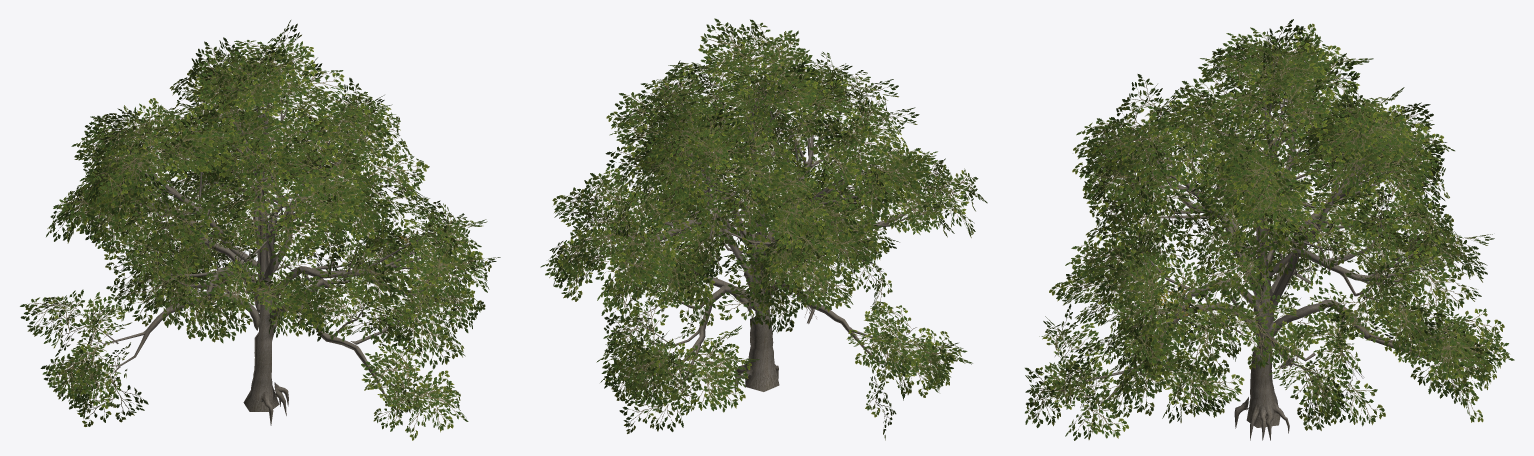
The model's file is oak-10726.gltf.
3 views of the same model, side by side, from view 1: azimuth 30°, elevation 25°; view 2: azimuth 150°, elevation 25°; view 3: azimuth 270°, elevation 25° (orthographic). The views are drawn at different scales.
Visible parts, largest first — view 1: White oak full crown 10726; view 2: White oak full crown 10726; view 3: White oak full crown 10726.
Boxes of the visible parts, x1,y1,x2,y2 form: White oak full crown 10726: (20, 20, 500, 440); White oak full crown 10726: (540, 18, 987, 440); White oak full crown 10726: (1025, 19, 1514, 440).
Size of the model in its own units: 1415 by 1254 by 1380.
4 materials, 4 textured.
